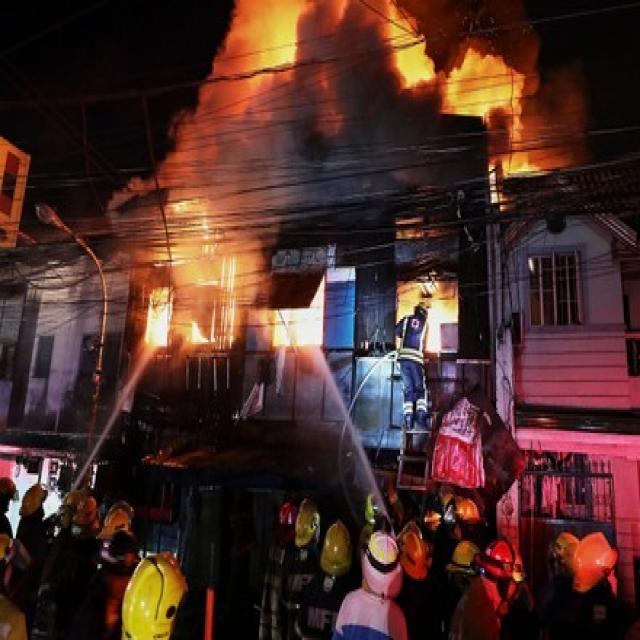Fire: (167, 188, 242, 352), (450, 46, 520, 166), (258, 258, 333, 362), (397, 258, 463, 351), (138, 272, 178, 354)
Smoke: (274, 12, 432, 200), (524, 59, 600, 181)
